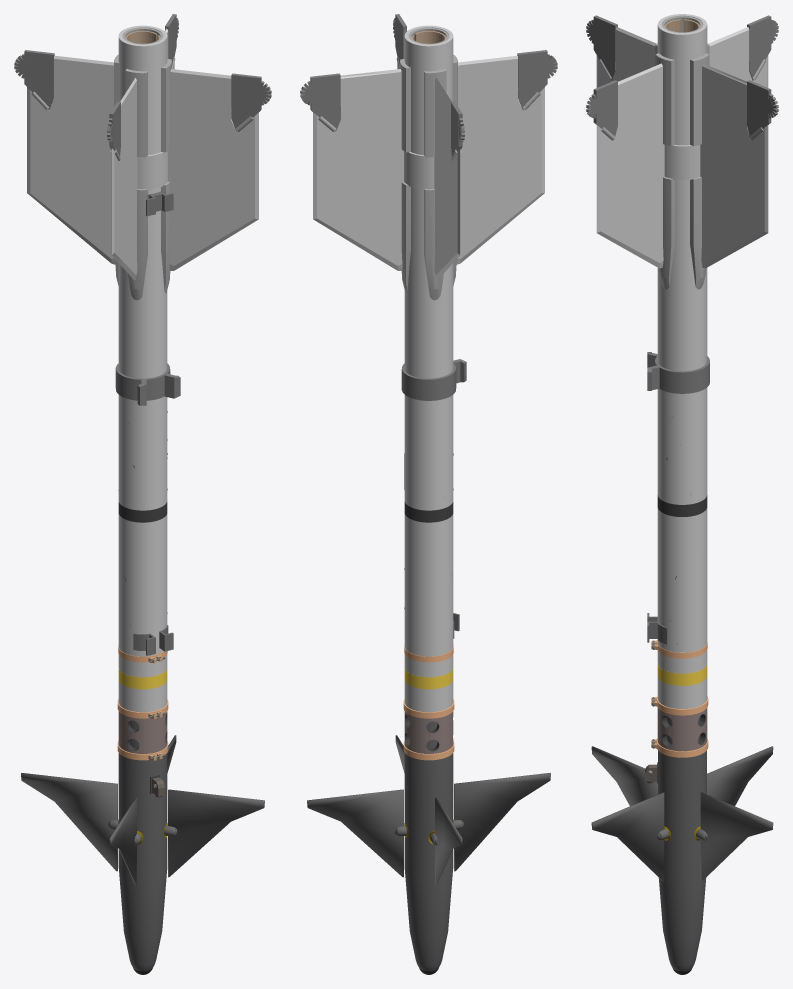
The model's file is pack1-missile-01.glb.
3 views of the same model, side by side, from view 1: azimuth 30°, elevation 25°; view 2: azimuth 150°, elevation 25°; view 3: azimuth 270°, elevation 25° (orthographic).
Parts seen in each view (by area): view 1: Missile Pack 1 #1; view 2: Missile Pack 1 #1; view 3: Missile Pack 1 #1.
Boxes of the visible parts, bbox=[...] form: Missile Pack 1 #1: bbox=[14, 14, 271, 974]; Missile Pack 1 #1: bbox=[300, 14, 557, 974]; Missile Pack 1 #1: bbox=[586, 14, 778, 974].
Bounding box in the file's own units: 0.4415 × 2.4 × 0.4415.
Materials: 26 (16 with a texture image).
